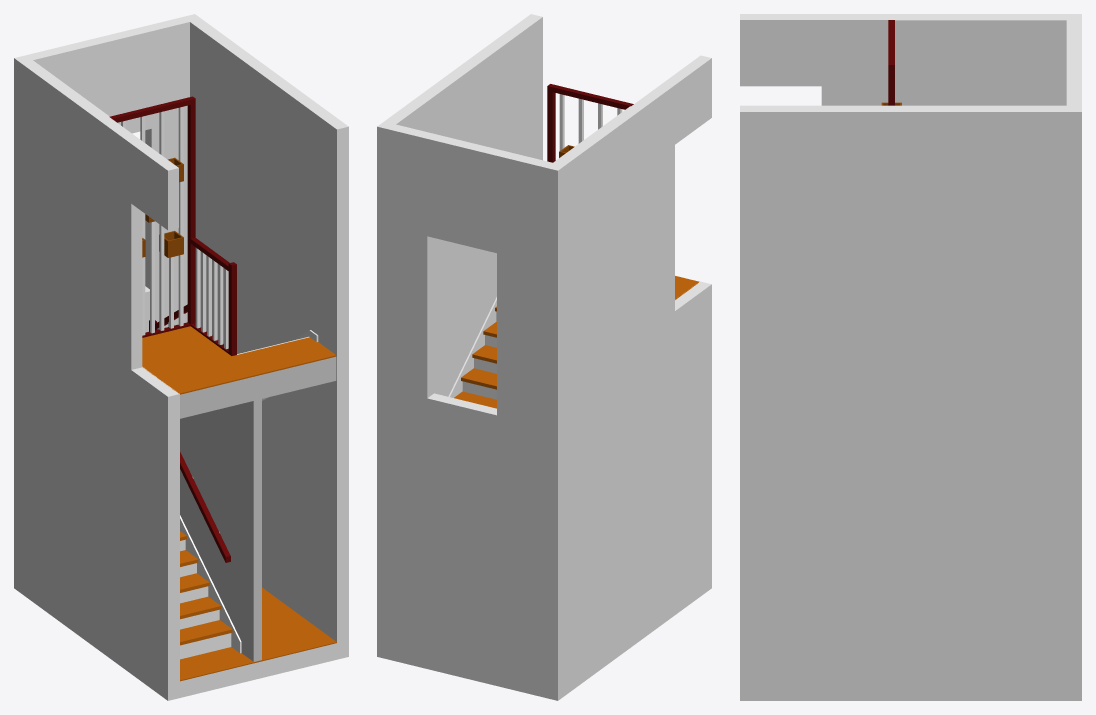
The model's file is устрйство лестницы на бетонном основании.obj.
The picture shows the model from 3 angles, left to right: view 1: azimuth 30°, elevation 25°; view 2: azimuth 150°, elevation 25°; view 3: azimuth 270°, elevation 25°; orthographic projection. The views are drawn at different scales.
Bounding box in the file's own units: 2.28 × 6.38 × 3.35.
